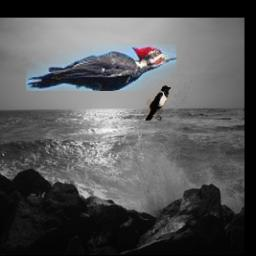Crow: (146, 85, 172, 121)
Woodpecker: (27, 45, 177, 91)
